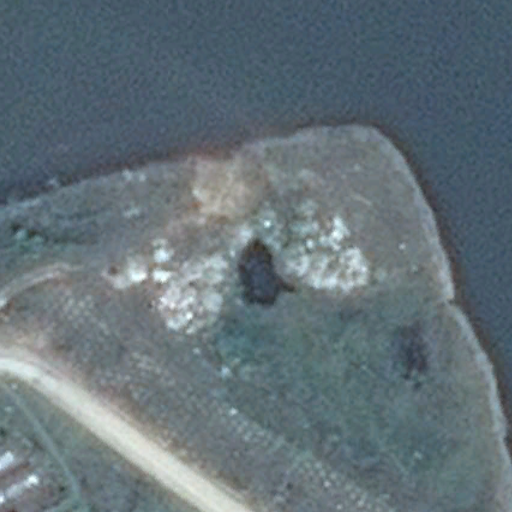msw: (261, 207, 371, 291), (156, 248, 224, 332)
